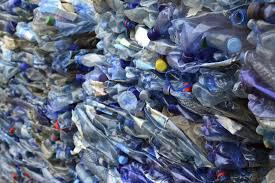Plastic: (149, 12, 193, 50), (115, 87, 142, 117), (18, 26, 47, 44)
